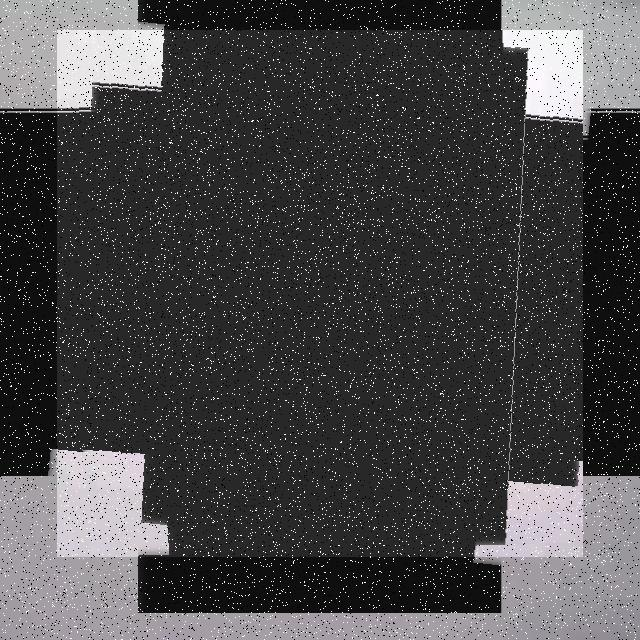dua ribu rupiah: (57, 30, 583, 557)
